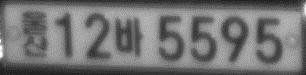1: (53, 11, 76, 58)
2: (84, 13, 112, 58)
5: (189, 14, 217, 63), (157, 14, 186, 61), (254, 16, 282, 63)
9: (220, 15, 250, 62)
바: (113, 16, 143, 57)
울산_V: (21, 10, 49, 57)
